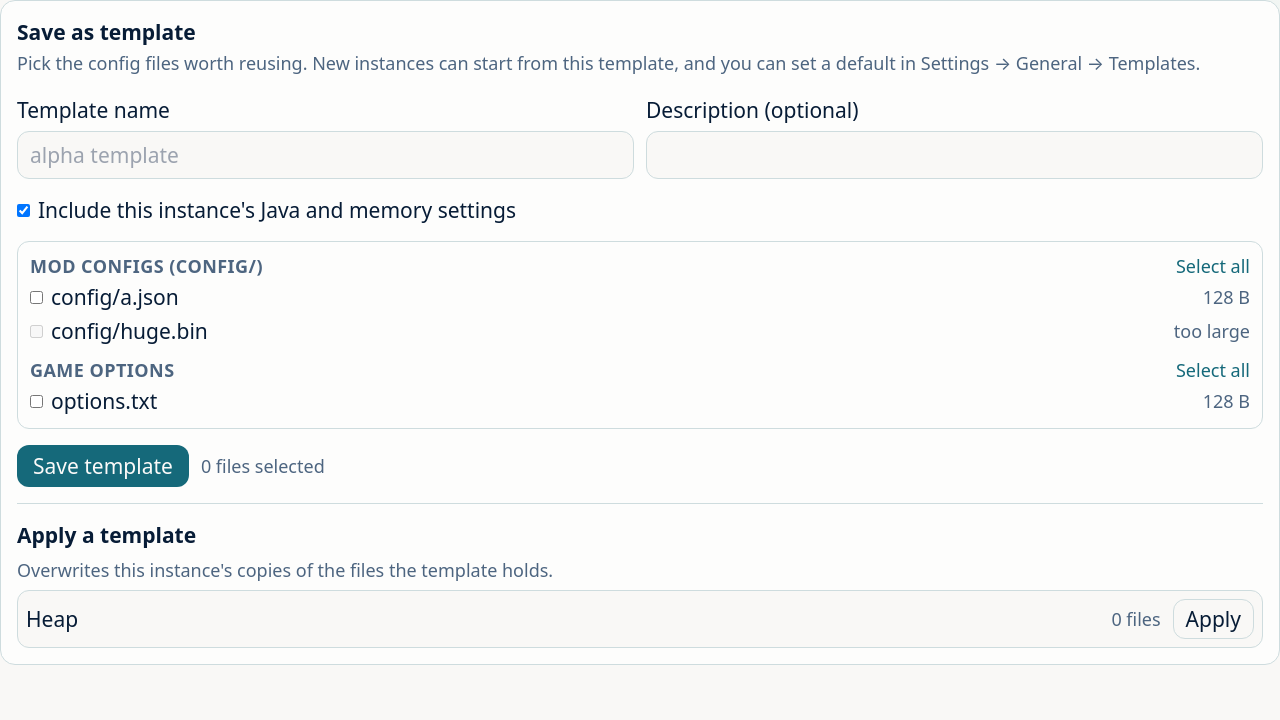
it: InstanceTemplatePanel › does not claim a JVM-only template had nothing to apply
Click the button "Apply" at (1213, 619), box [1173,599,1254,639]
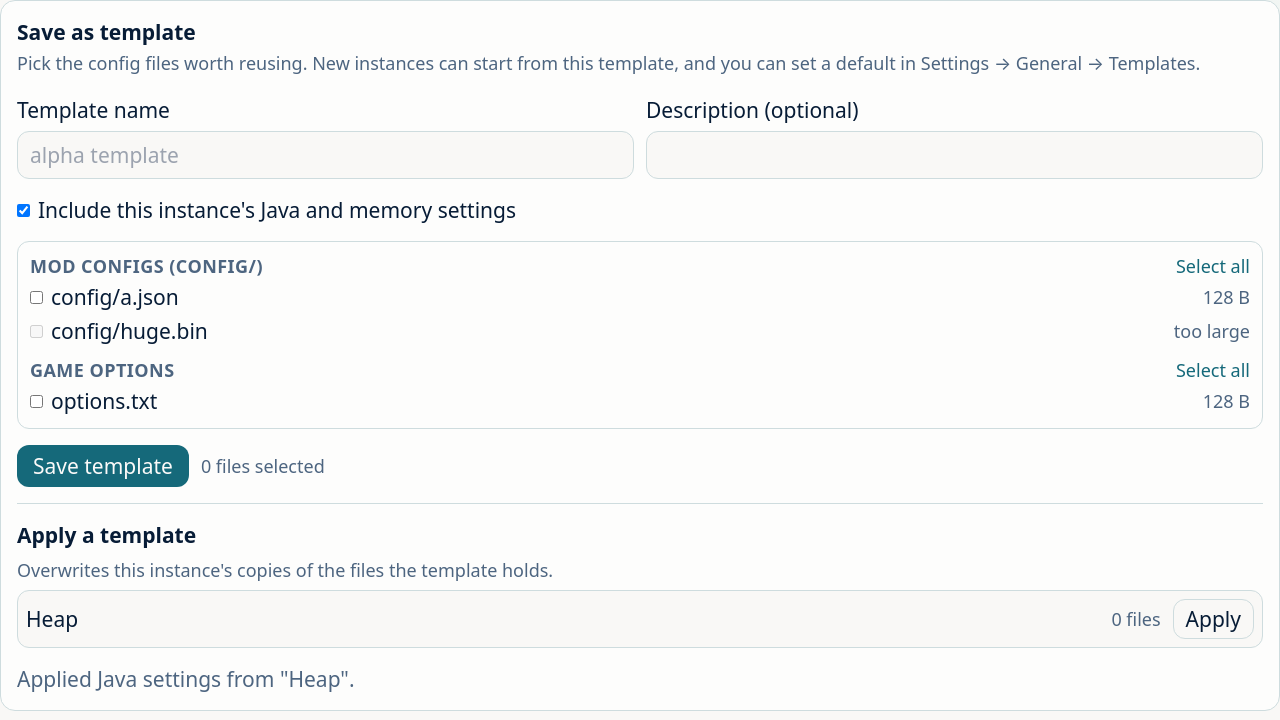
Expected: the text "Applied Java settings from \"Heap\"." is shown, [17,665,355,693]
